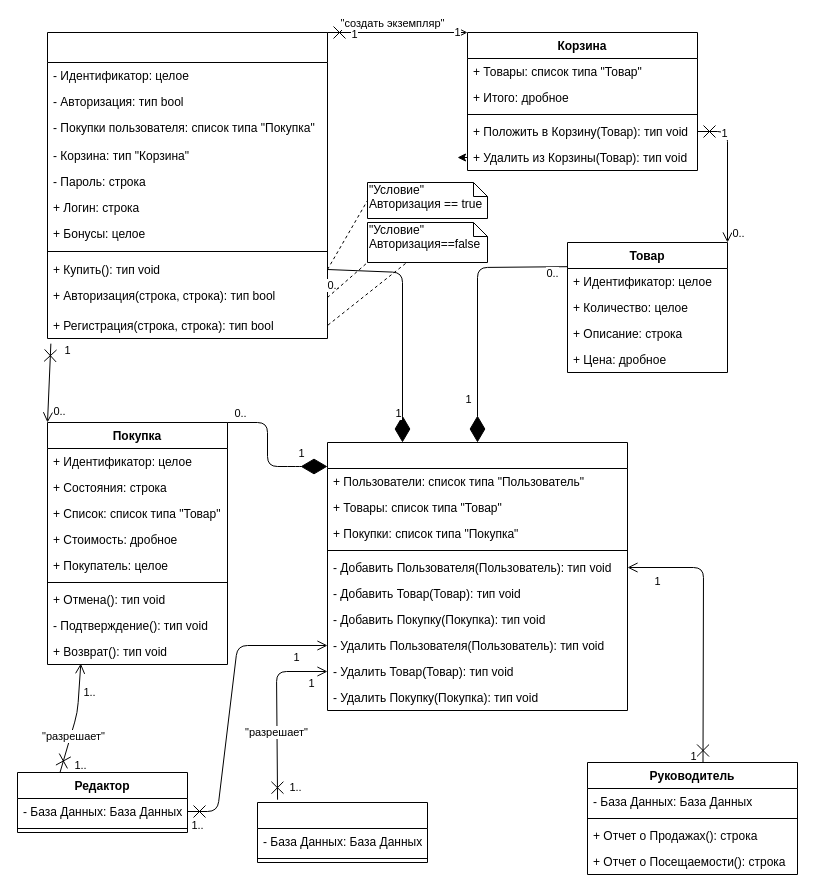
The diagram is 815 pixels wide and 895 high, and some of its shapes have lost their labels. Here are the shapes that lost their labels. From the top down, the box of each, then its label:
(46, 32, 328, 338): Пользователь
(326, 442, 628, 710): База Данных
(256, 802, 428, 862): Администратор
